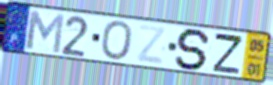2: (61, 13, 91, 60)
M: (25, 8, 67, 55)
O: (99, 20, 134, 63)
S: (173, 27, 213, 72)
Z: (134, 23, 168, 67), (211, 31, 244, 76)
